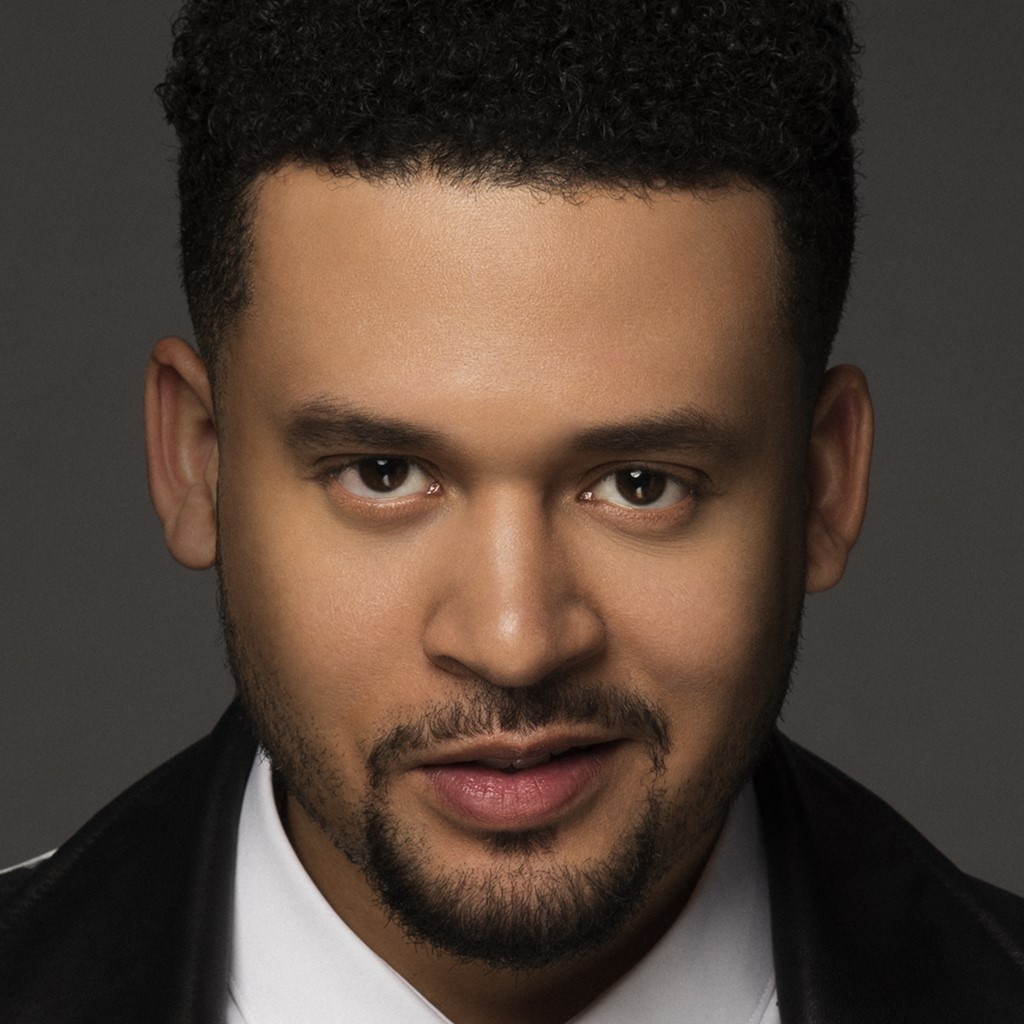sin_mascara: (175, 88, 812, 947)
